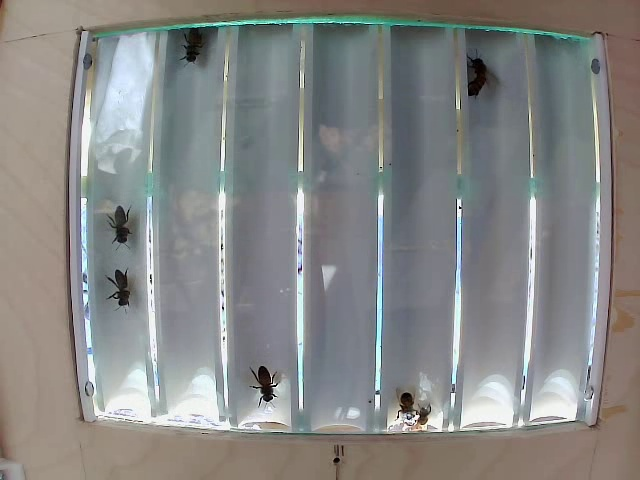bee: (458, 46, 500, 98), (95, 268, 141, 313), (239, 360, 277, 405), (103, 209, 137, 252), (383, 379, 412, 411)
